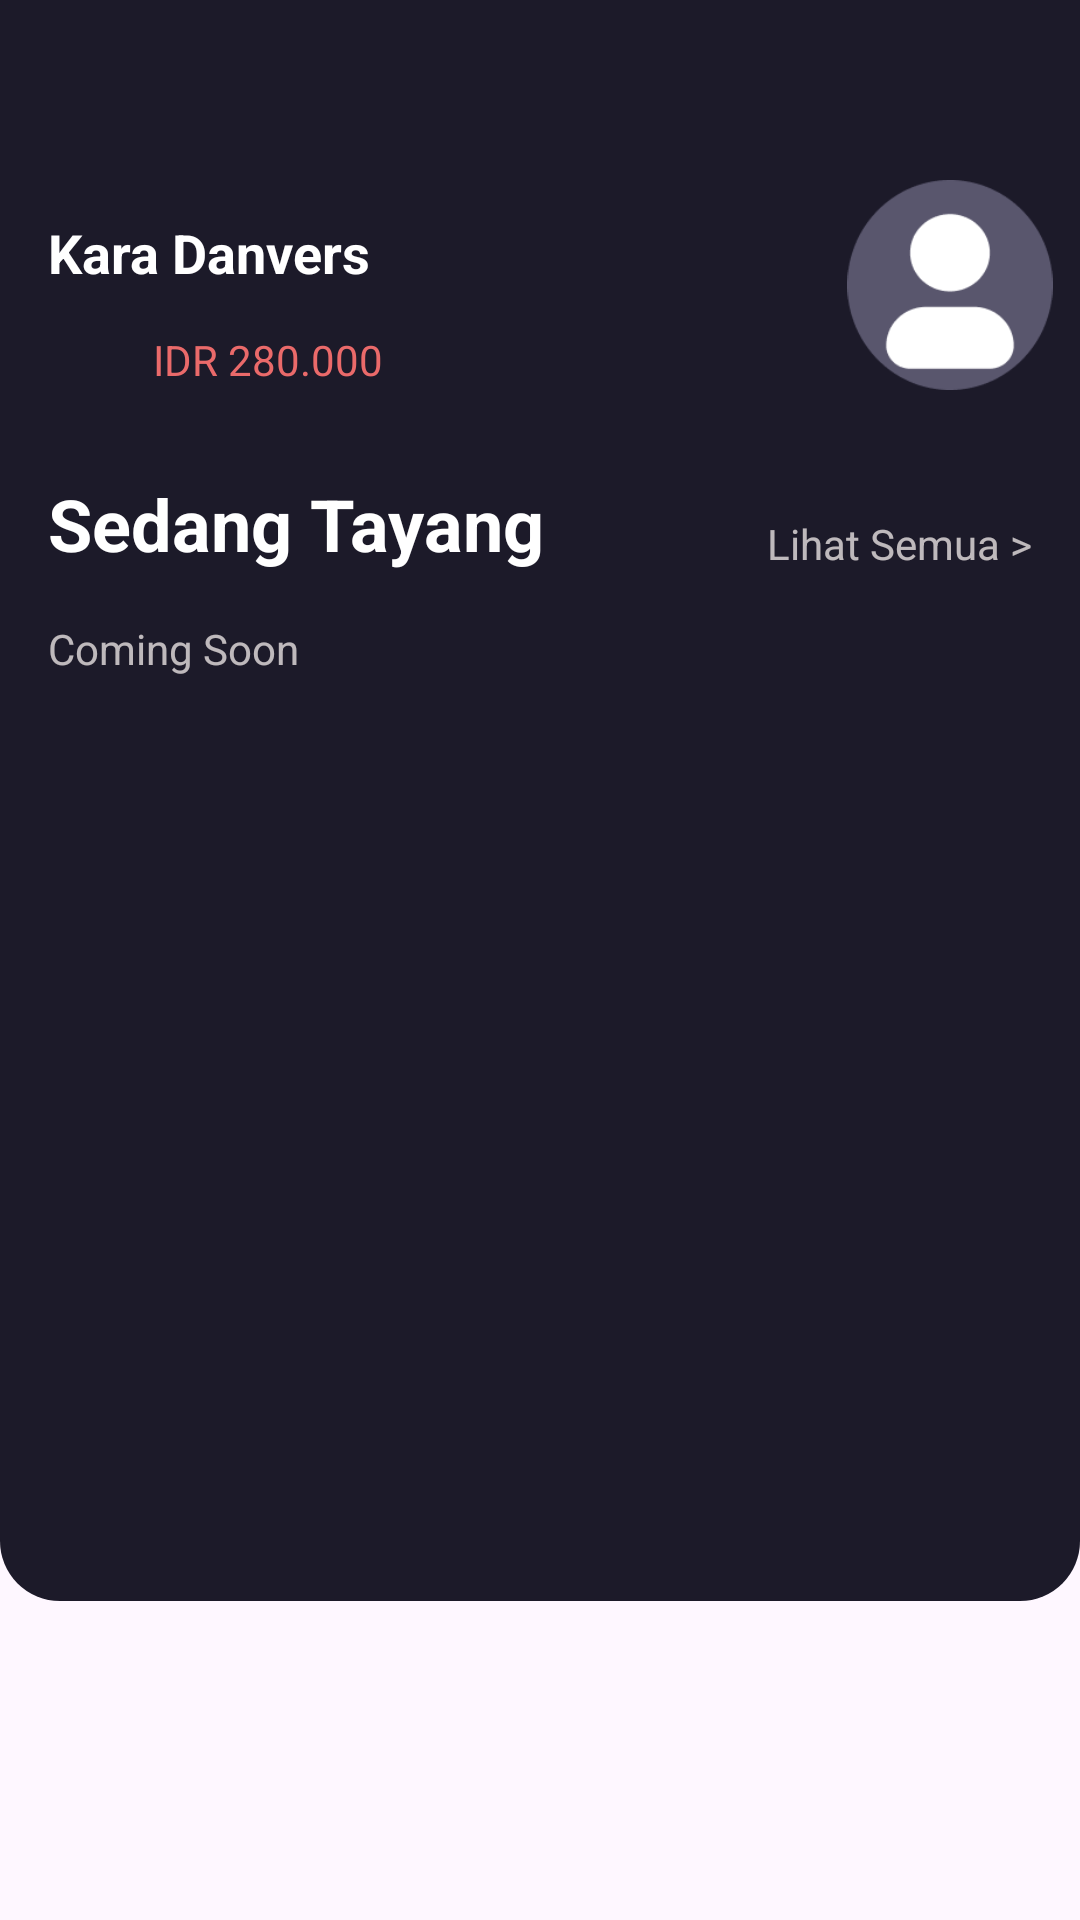

Icons on this 1080×1920 Android screen, each with the point to tap as [x,y]:
photo user: [950,285]
